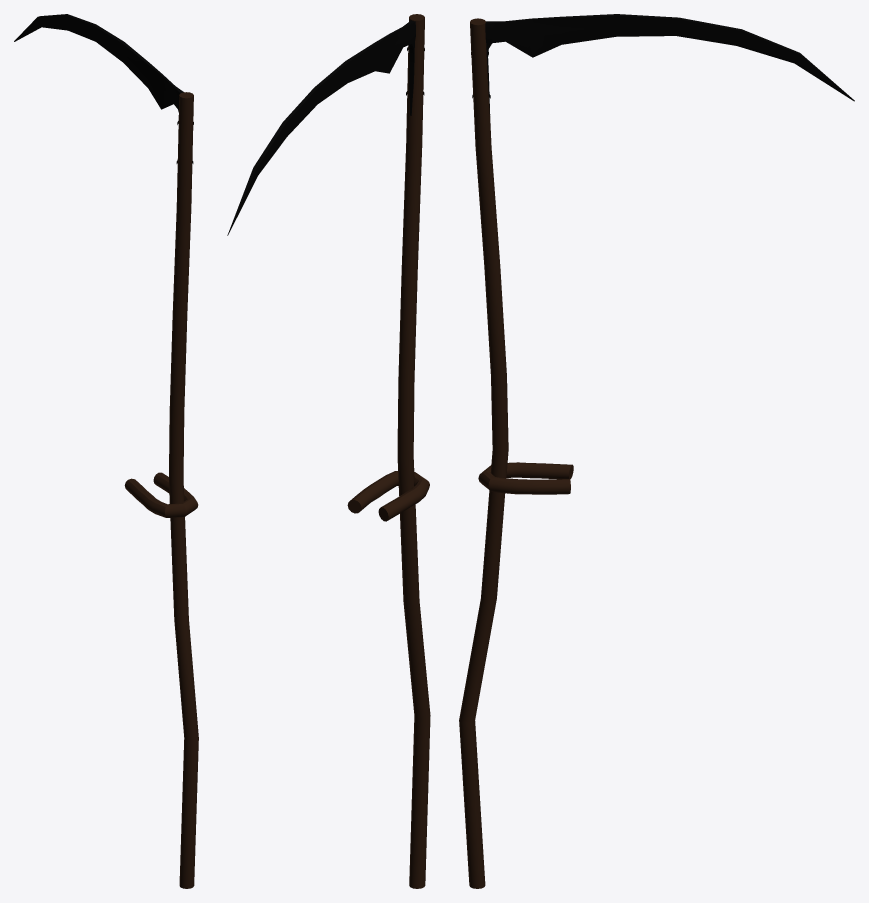
The model's file is scythe.fbx.
3 renders of one model, left to right at view 1: azimuth 30°, elevation 25°; view 2: azimuth 150°, elevation 25°; view 3: azimuth 270°, elevation 25°, orthographic. The views are drawn at different scales.
Visible parts, largest first — view 1: Cylinder.001; view 2: Cylinder.001; view 3: Cylinder.001.
Part boxes in pixels (<box>): Cylinder.001: <box>14,14,198,888</box>; Cylinder.001: <box>227,14,430,888</box>; Cylinder.001: <box>459,14,854,888</box>.
Bounding box in the file's own units: 6.46 × 111 × 45.57.
